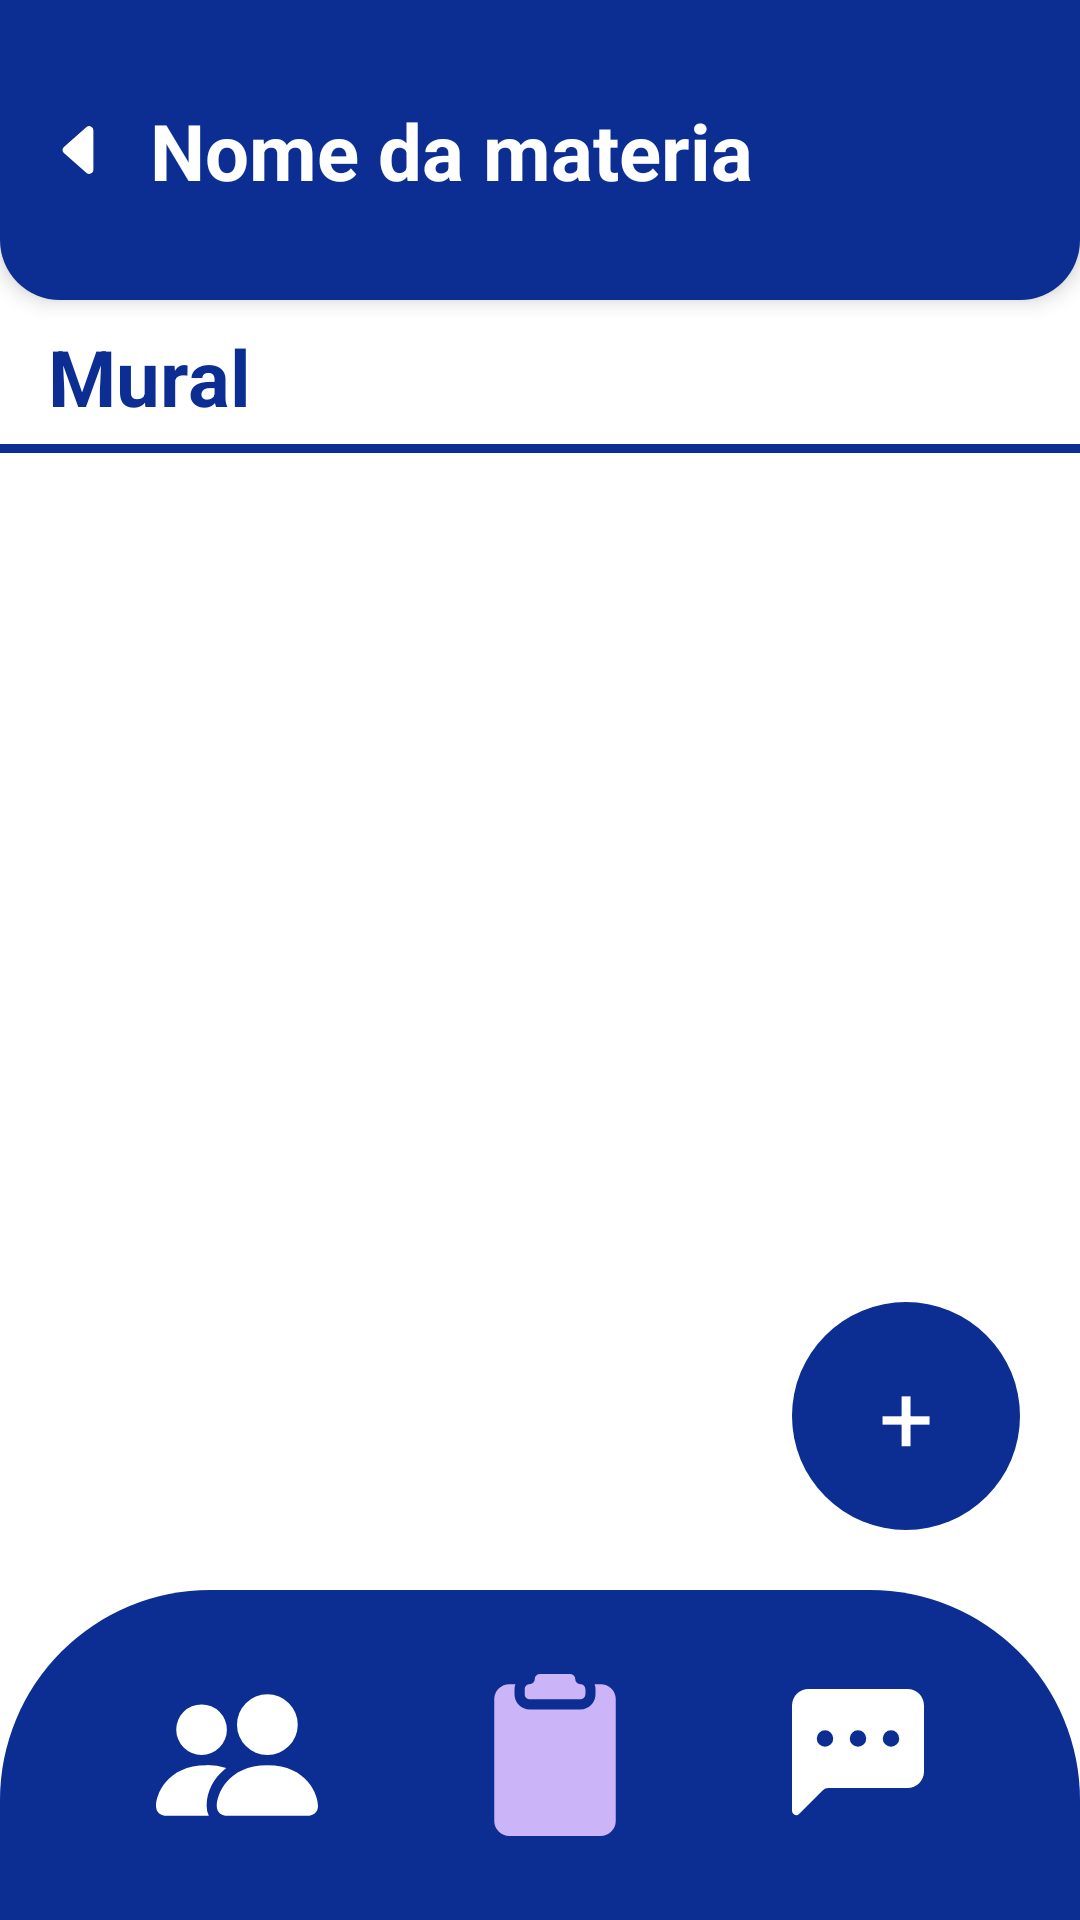

Locate icon controls on the screen. Image size 1080 × 1920, boxes as bbox=(x1, y1, x2, y2).
caret left: bbox=(62, 126, 94, 174)
